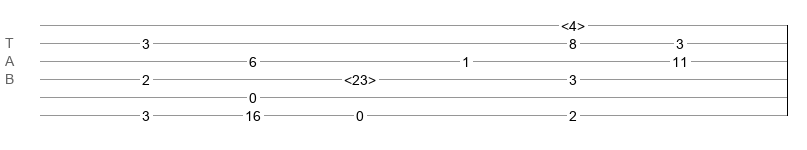0: (249, 90, 257, 100), (356, 108, 364, 118)
1: (462, 54, 470, 64)
11: (672, 54, 688, 64)
16: (245, 108, 261, 118)
2: (142, 72, 150, 82), (569, 108, 577, 118)
3: (142, 108, 150, 118), (142, 36, 150, 46), (569, 72, 577, 82), (676, 36, 684, 46)
6: (249, 54, 257, 64)
8: (569, 36, 577, 46)
harmonic: (344, 72, 376, 82), (561, 18, 585, 28)
